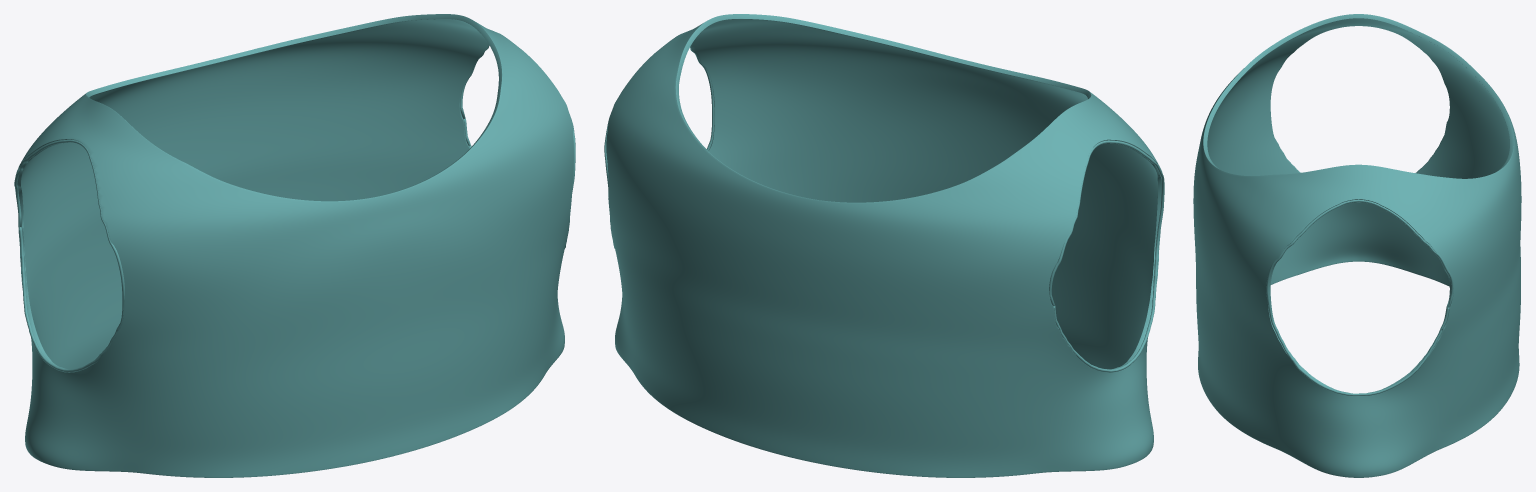
File: Masculine-tank-top.glb
The picture shows the model from 3 angles, left to right: view 1: azimuth 30°, elevation 25°; view 2: azimuth 150°, elevation 25°; view 3: azimuth 270°, elevation 25°; orthographic projection. The views are drawn at different scales.
Parts seen in each view (by area): view 1: Clothing / Tank189, Tank / clean binding189 1 export; view 2: Clothing / Tank189, Tank / clean binding189 1 export; view 3: Clothing / Tank189, Tank / clean binding189 0 export.
Boxes of the visible parts, x1,y1,x2,y2 form: Clothing / Tank189: [17, 14, 573, 477]; Tank / clean binding189 1 export: [14, 139, 124, 372]; Clothing / Tank189: [606, 14, 1161, 477]; Tank / clean binding189 1 export: [1049, 140, 1164, 372]; Clothing / Tank189: [1193, 14, 1521, 477]; Tank / clean binding189 0 export: [1266, 199, 1453, 396].
Bounding box in the file's own units: 0.6905 × 0.4129 × 0.4389.
